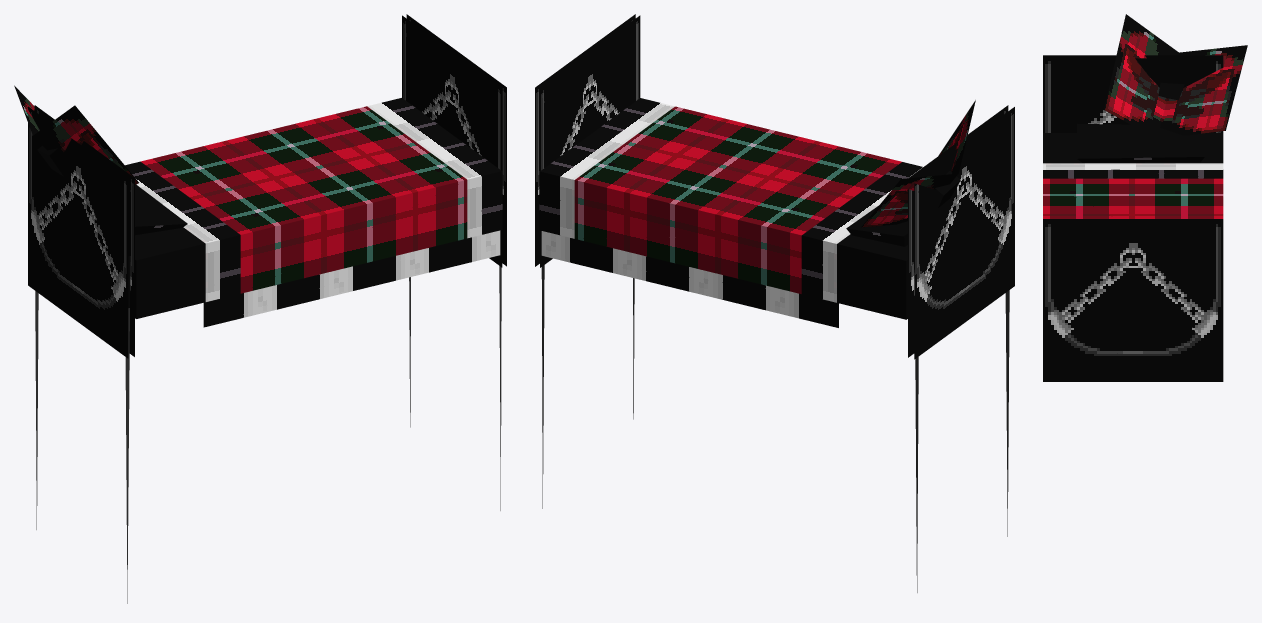
3 views of the same model, side by side, from view 1: azimuth 30°, elevation 25°; view 2: azimuth 150°, elevation 25°; view 3: azimuth 270°, elevation 25° (orthographic). The views are drawn at different scales.
Parts seen in each view (by area): view 1: 3835kg3_ser16; view 2: 3835kg3_ser16; view 3: 3835kg3_ser16.
Part boxes in pixels (<box>): 3835kg3_ser16: <box>14,14,506,603</box>; 3835kg3_ser16: <box>535,14,1014,592</box>; 3835kg3_ser16: <box>1043,14,1247,381</box>.
Bounding box in the file's own units: 1.9 × 2.17 × 0.9417.
4 materials, 4 textured.
